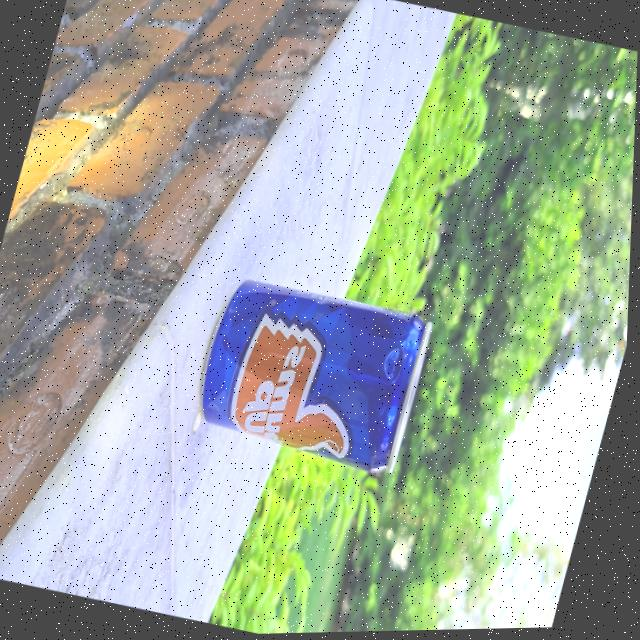Thums Up: (190, 274, 442, 493)
